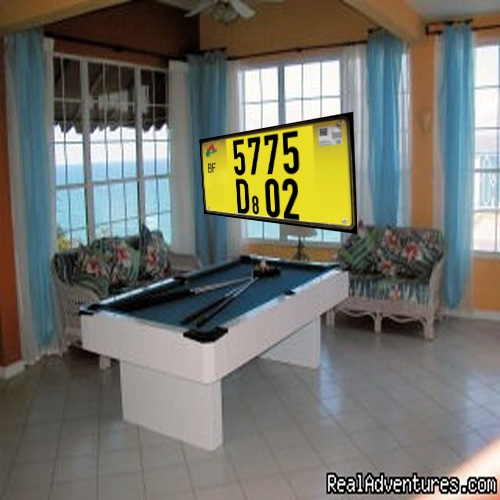plate: (191, 107, 380, 249)
